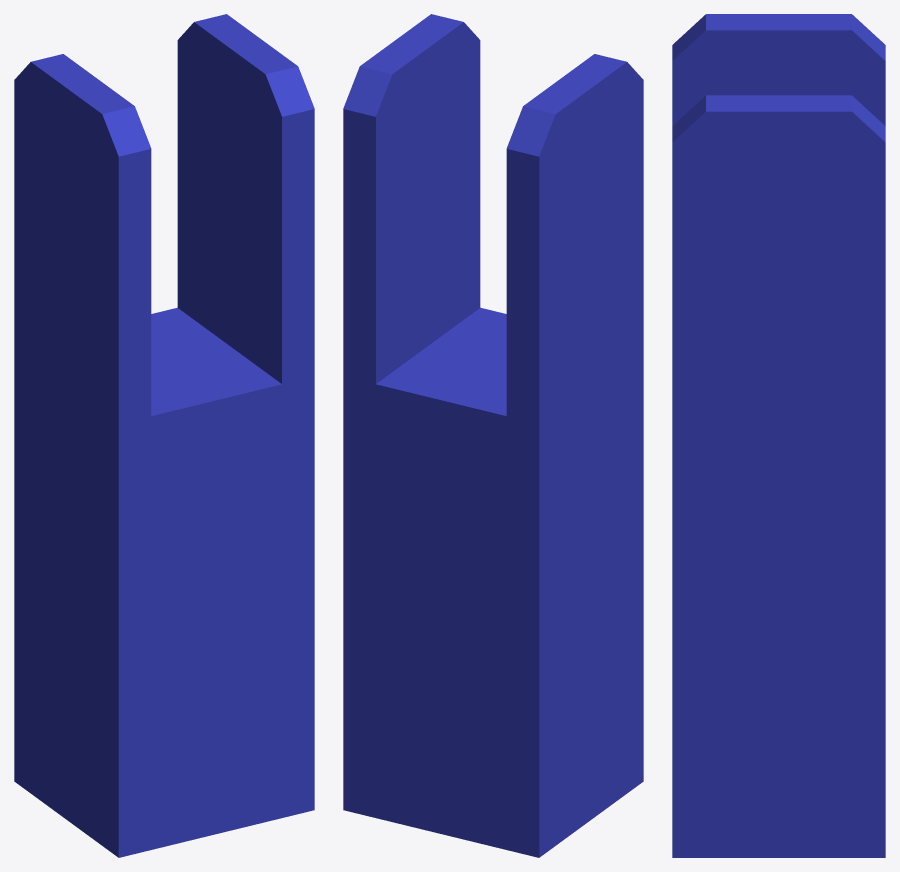
Rendered from key_bottom_handle.obj.
The picture shows the model from 3 angles, left to right: view 1: azimuth 30°, elevation 25°; view 2: azimuth 150°, elevation 25°; view 3: azimuth 270°, elevation 25°; orthographic projection. The views are drawn at different scales.
Parts seen in each view (by area): view 1: white_keys.016_Cube.054; view 2: white_keys.016_Cube.054; view 3: white_keys.016_Cube.054.
Part boxes in pixels (<box>): white_keys.016_Cube.054: <box>14,14,314,857</box>; white_keys.016_Cube.054: <box>343,14,643,857</box>; white_keys.016_Cube.054: <box>672,14,885,857</box>.
Bounding box in the file's own units: 0.0104 × 0.0371 × 0.00961.
1 material, 1 textured.
